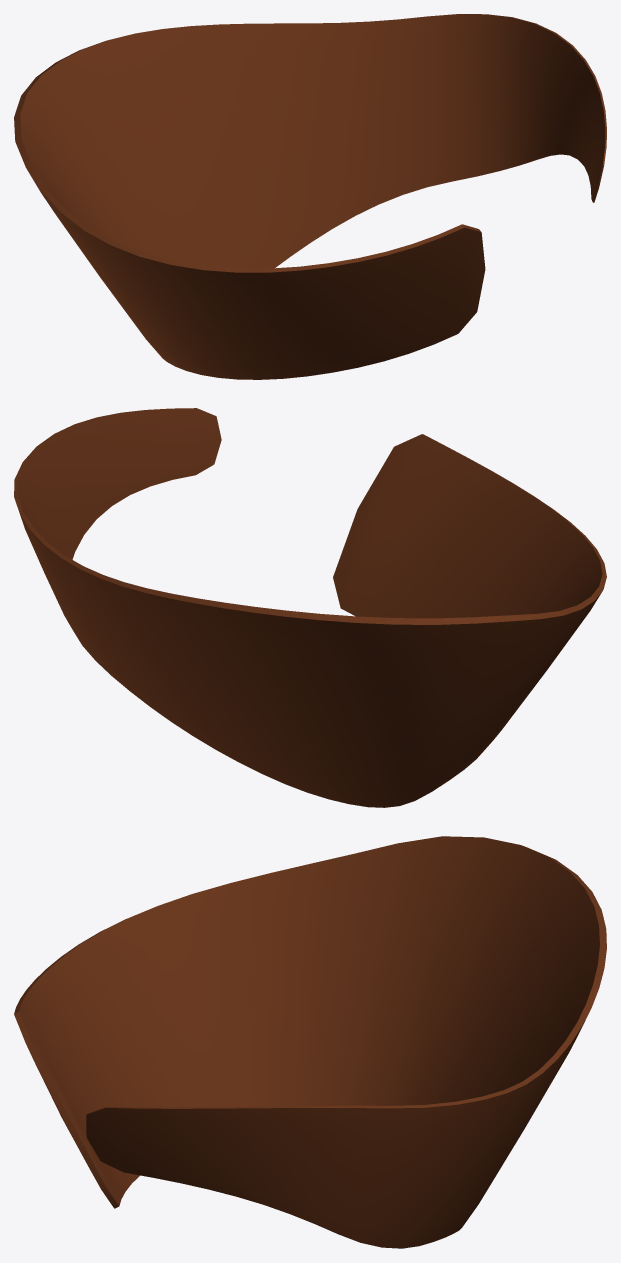
Rendered from chocoSwoosh.glb.
The picture shows the model from 3 angles, top to bottom: view 1: azimuth 30°, elevation 25°; view 2: azimuth 150°, elevation 25°; view 3: azimuth 270°, elevation 25°; orthographic projection. The views are drawn at different scales.
Parts seen in each view (by area): view 1: chocoSwoosh; view 2: chocoSwoosh; view 3: chocoSwoosh.
Part boxes in pixels (<box>): chocoSwoosh: <box>14,14,606,379</box>; chocoSwoosh: <box>14,408,606,807</box>; chocoSwoosh: <box>14,836,606,1248</box>.
Bounding box in the file's own units: 0.1703 × 0.0788 × 0.1439.
